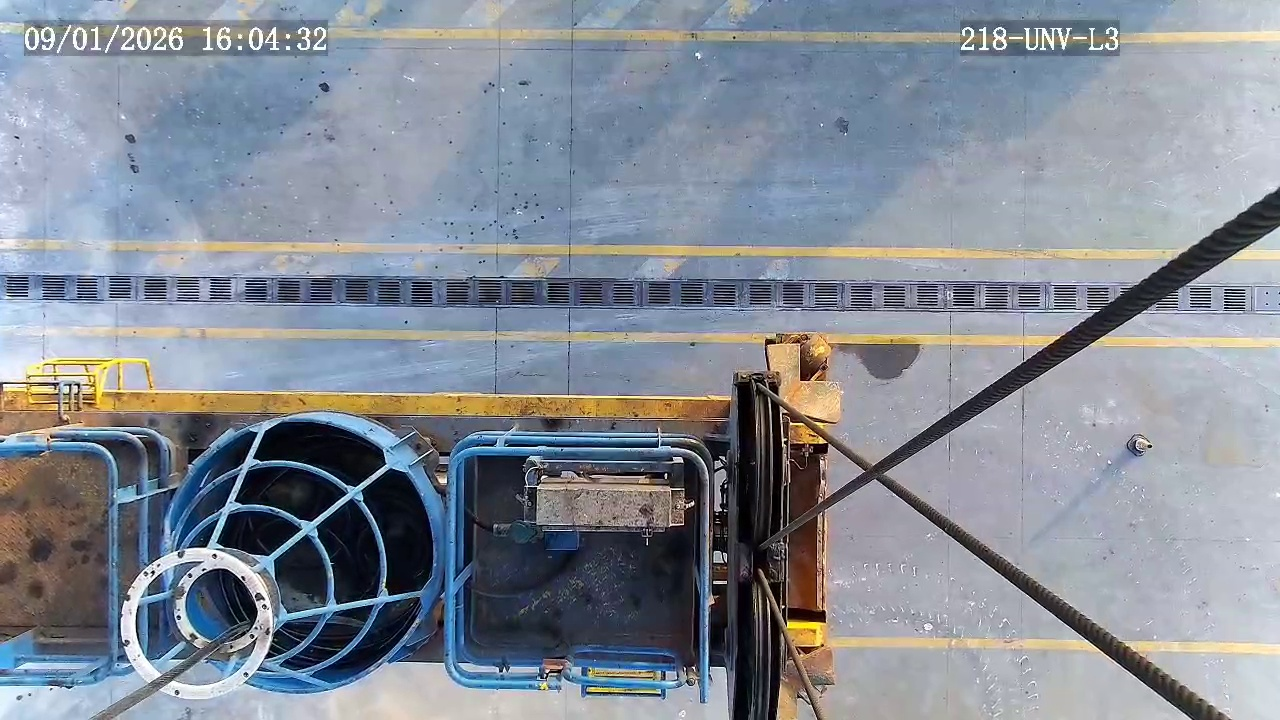right: (161, 419, 437, 695)
